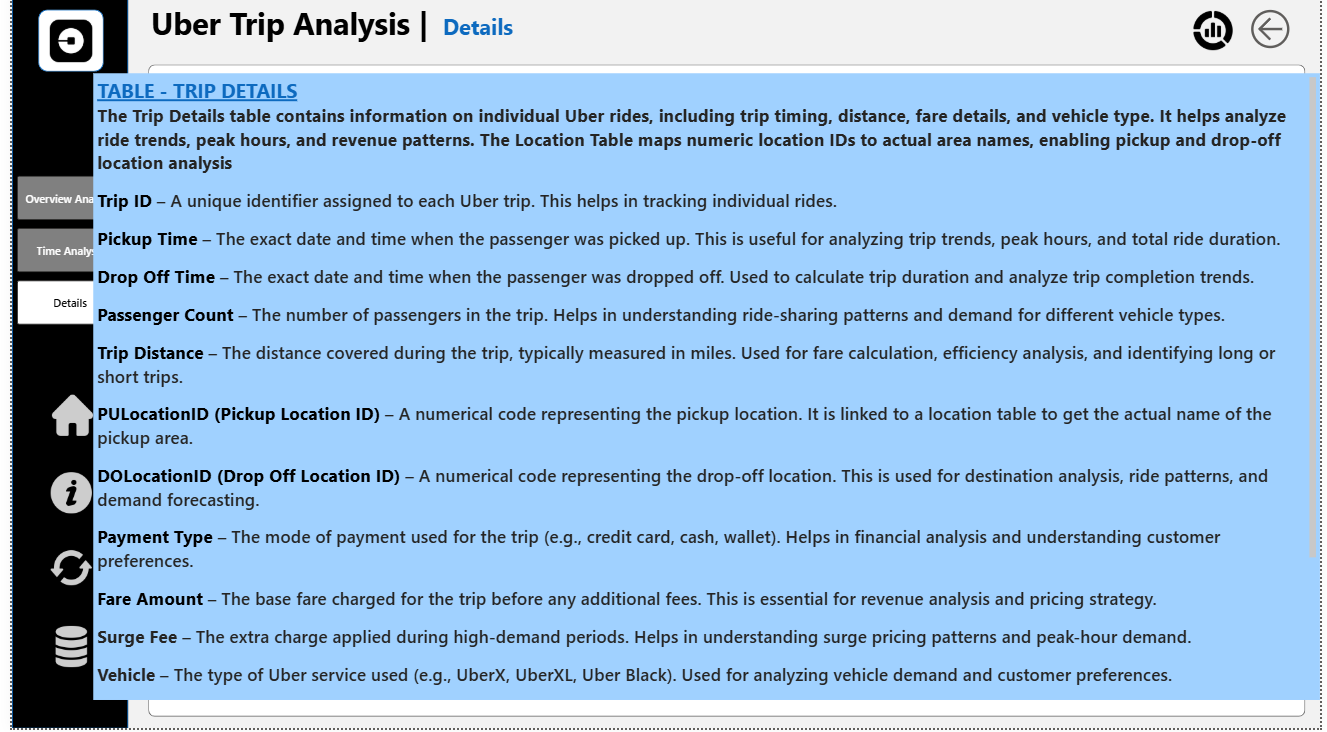

The page's visual inventory and layout, read from the dashboard file:
{"tool":"powerbi","page":{"name":"Details","canvas":[1600,900],"ordinal":2},"visuals":[{"type":"shape","box":[0,0,142,900.7],"z":0},{"type":"textbox","box":[165,7,943.2,68.8],"z":1000},{"type":"shape","box":[166,89.1,1414.8,797.5],"z":2000},{"type":"tableEx","fields":{"Values":["Trip Details.Trip ID","Trip Details.Pickup Date","Trip Details.Pickup Hour (HH MM SS)","Trip Details.Vehicle","Trip Details.Payment_type","Sum(Trip Details.passenger_count)","Trip Details.Total Trip Distance Measure","Trip Details.Total Booking Value","Location Table.Location","Trip Details.Total Bookings"]},"box":[182.2,109.3,1376.3,757],"z":3000},{"type":"actionButton","box":[1508,16,68,60],"z":4000},{"type":"image","box":[1440,18,58,58],"z":5000},{"type":"group","id":"g1","title":"Group 1","box":[32,22,80,76],"z":6000},{"type":"pageNavigator","box":[6,224,130,184],"z":7000},{"type":"image","box":[34,488,80,60],"z":8000},{"type":"image","box":[32,582,80,60],"z":9000},{"type":"image","box":[32,674,80,60],"z":10000},{"type":"image","box":[32,770,80,60],"z":11000},{"type":"textbox","box":[100,100,1500,766],"z":12000},{"type":"shape","box":[32,22,80,76],"z":33000,"group":"g1"},{"type":"image","box":[38,30,68,62],"z":34000,"group":"g1"}]}

Visuals, with their boxes on the page's 1600x900 design canvas (x1, y1, x2, y2). These are canvas units, not pixel positions in the 1327x732 screenshot, which may show the page scaled, cropped or inside an application window:
shape: 0, 0, 142, 901
textbox: 165, 7, 1108, 76
shape: 166, 89, 1581, 887
tableEx - Trip Details.Trip ID x Trip Details.Pickup Date: 182, 109, 1558, 866
actionButton: 1508, 16, 1576, 76
image: 1440, 18, 1498, 76
"Group 1" group: 32, 22, 112, 98
pageNavigator: 6, 224, 136, 408
image: 34, 488, 114, 548
image: 32, 582, 112, 642
image: 32, 674, 112, 734
image: 32, 770, 112, 830
textbox: 100, 100, 1600, 866
shape: 32, 22, 112, 98
image: 38, 30, 106, 92
